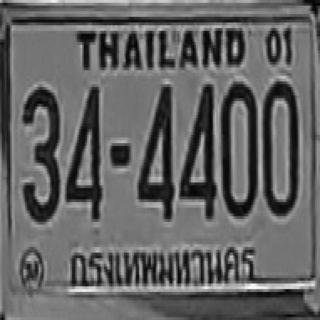N00: (220, 81, 256, 216), (262, 79, 297, 213)
N03: (22, 84, 59, 222)
N04: (137, 82, 173, 219), (65, 83, 101, 218), (178, 81, 214, 216)
P04: (67, 242, 261, 291)
